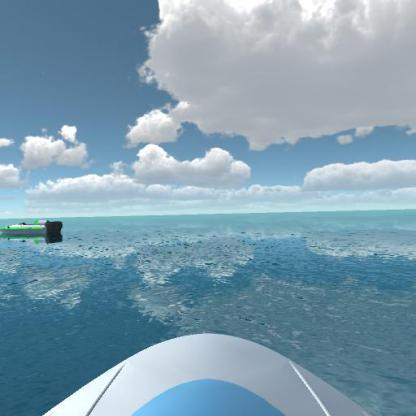usv0: (0, 208, 67, 247)
